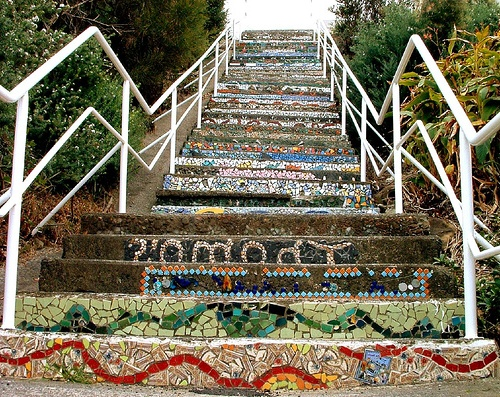stairs_up: (161, 31, 360, 394)
